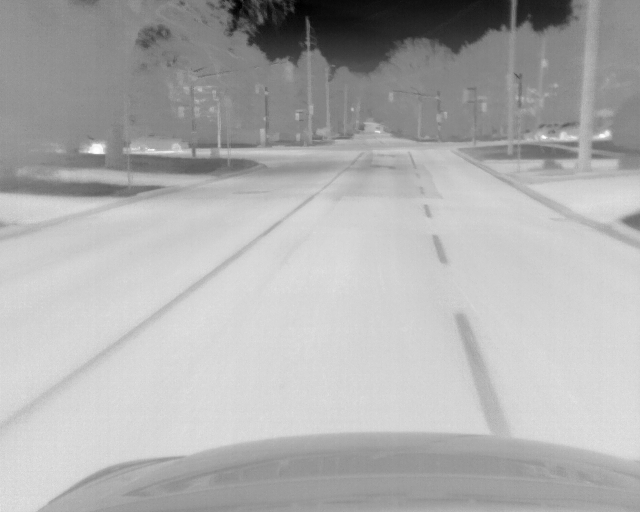car: (130, 131, 188, 153), (547, 120, 580, 141), (523, 124, 552, 141)
